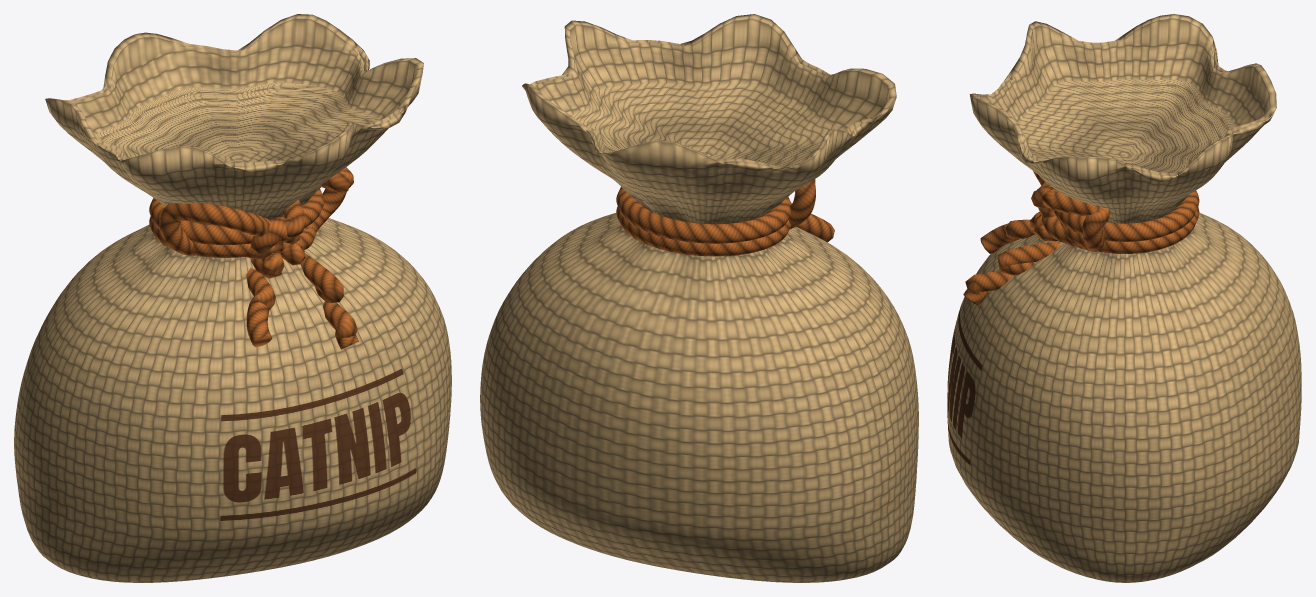
The model's file is catnip_sack.fbx.
The picture shows the model from 3 angles, left to right: view 1: azimuth 30°, elevation 25°; view 2: azimuth 150°, elevation 25°; view 3: azimuth 270°, elevation 25°; orthographic projection. The views are drawn at different scales.
Parts seen in each view (by area): view 1: Sack, Rope; view 2: Sack, Rope; view 3: Sack, Rope.
Part boxes in pixels (x1,y1,x2,y2): Sack: (14,14,451,582); Rope: (149,167,358,349); Sack: (480,14,918,582); Rope: (616,179,834,256); Sack: (947,14,1301,582); Rope: (963,171,1199,305).
Size of the model in its own units: 0.9458 by 1.02 by 0.7729.
2 materials, 2 textured.
